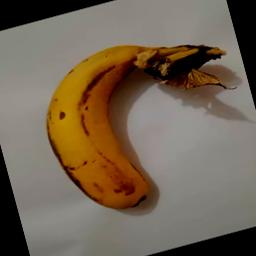Banana Unripe: (19, 16, 256, 229)
